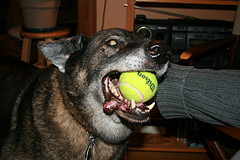tennis ball: (117, 71, 159, 104)
